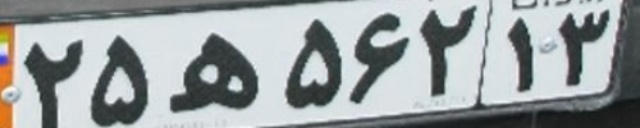1: (503, 14, 535, 92)
2: (21, 38, 81, 127), (419, 6, 476, 96)
3: (557, 8, 609, 87)
5: (283, 18, 345, 108), (90, 34, 152, 123)
6: (352, 11, 412, 103)
he: (168, 32, 263, 111)
